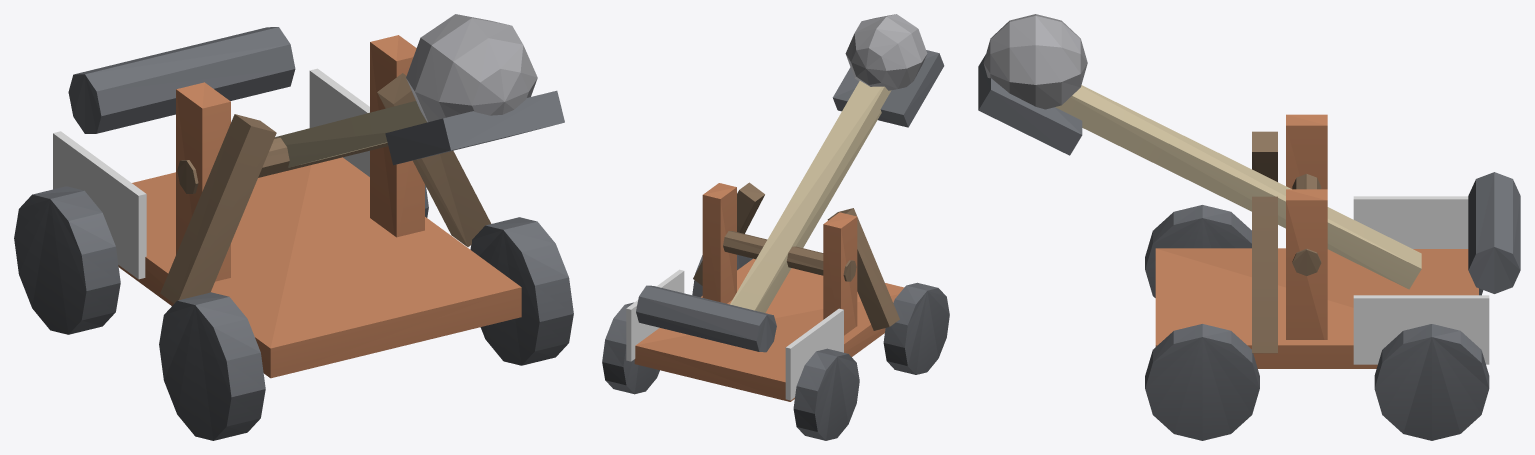
The model's file is Catapult.glb.
3 renders of one model, left to right at view 1: azimuth 30°, elevation 25°; view 2: azimuth 150°, elevation 25°; view 3: azimuth 270°, elevation 25°, orthographic. The views are drawn at different scales.
Visible parts, largest first — view 1: Body; view 2: Body; view 3: Body.
Part boxes in pixels (<box>): Body: <box>14,14,573,440</box>; Body: <box>602,14,949,440</box>; Body: <box>978,14,1520,440</box>.
Size of the model in its own units: 0.6 by 0.76 by 1.04.
